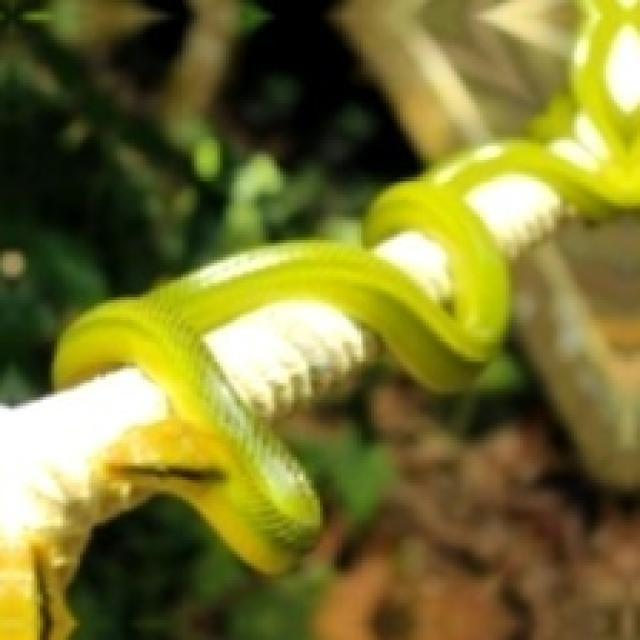red-tailed green ratsnake: (54, 0, 637, 569)
